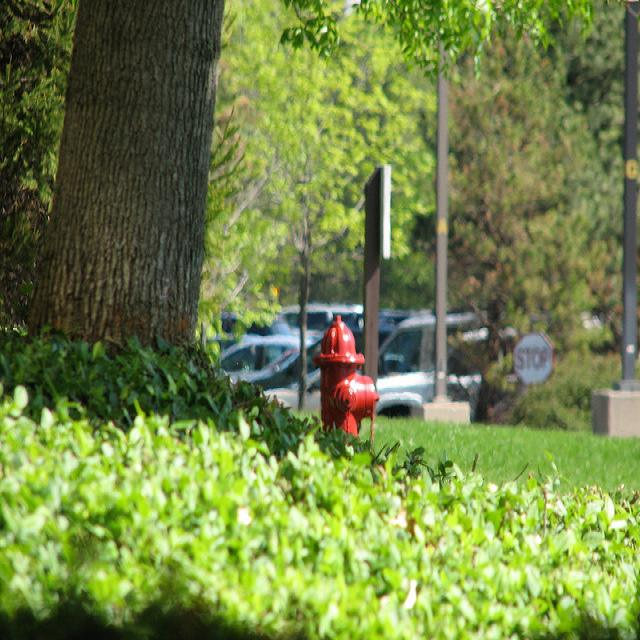Vehicle: (376, 310, 490, 423), (242, 326, 331, 391), (270, 304, 365, 354), (221, 334, 301, 380), (264, 370, 324, 416)
